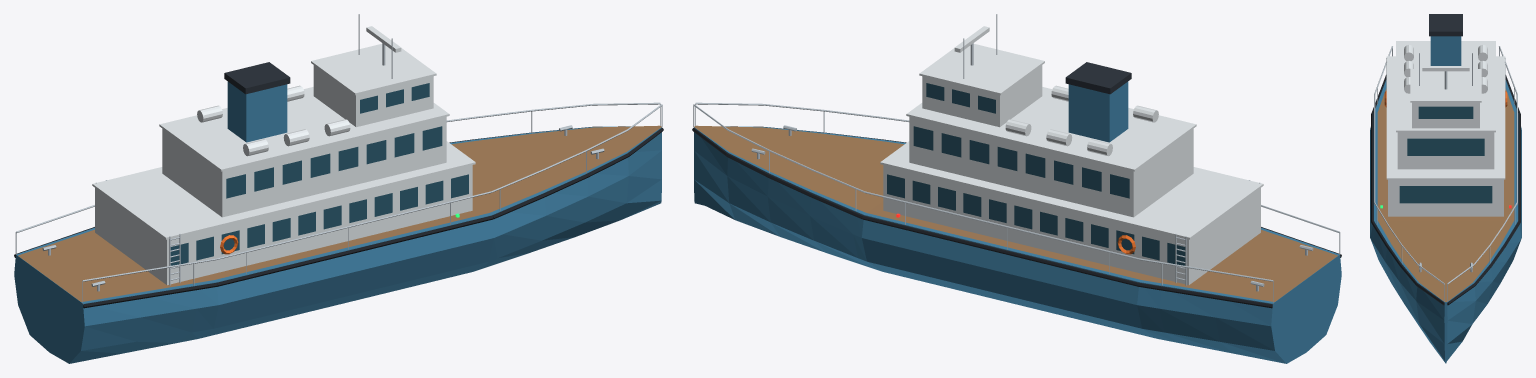
Rendered from ferry_lod1.glb.
3 renders of one model, left to right at view 1: azimuth 30°, elevation 25°; view 2: azimuth 150°, elevation 25°; view 3: azimuth 270°, elevation 25°, orthographic. The views are drawn at different scales.
Parts seen in each view (by area): view 1: body; view 2: body; view 3: body.
Boxes of the visible parts, <box> form: body: <box>14,14,663,363</box>; body: <box>692,14,1341,363</box>; body: <box>1370,14,1521,363</box>.
Size of the model in its own units: 30.07 by 11.56 by 8.
